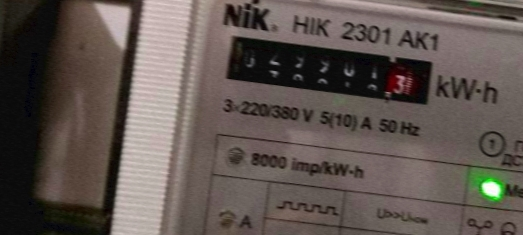0: (340, 51, 357, 78), (239, 45, 258, 68)
1: (365, 55, 381, 80)
2: (265, 45, 283, 66)
3: (390, 70, 406, 93)
9: (315, 50, 332, 73), (291, 47, 305, 70)
screen: (211, 21, 444, 115)
